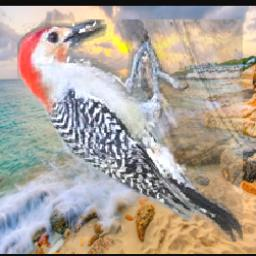Woodpecker: (18, 20, 244, 242)
